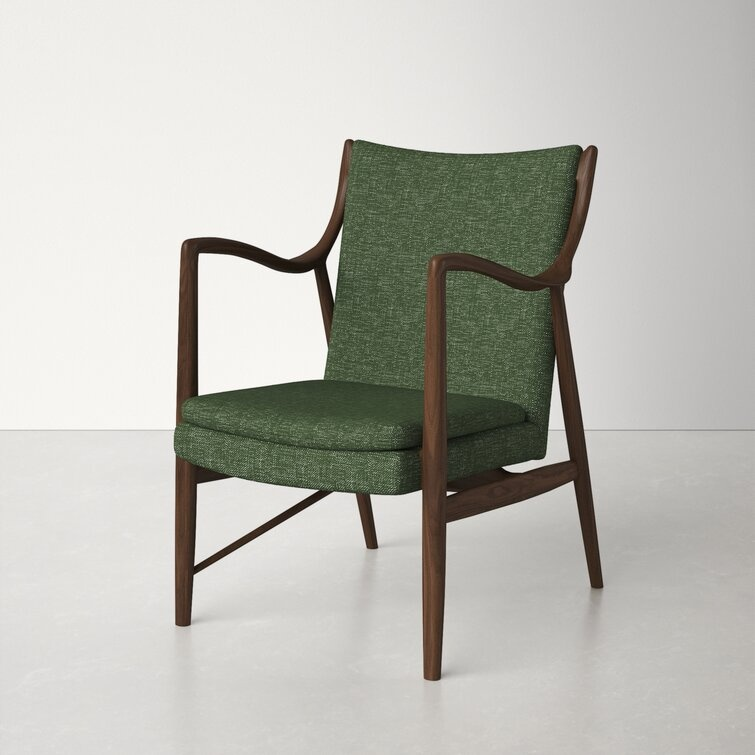obstacle: (175, 140, 602, 679)
